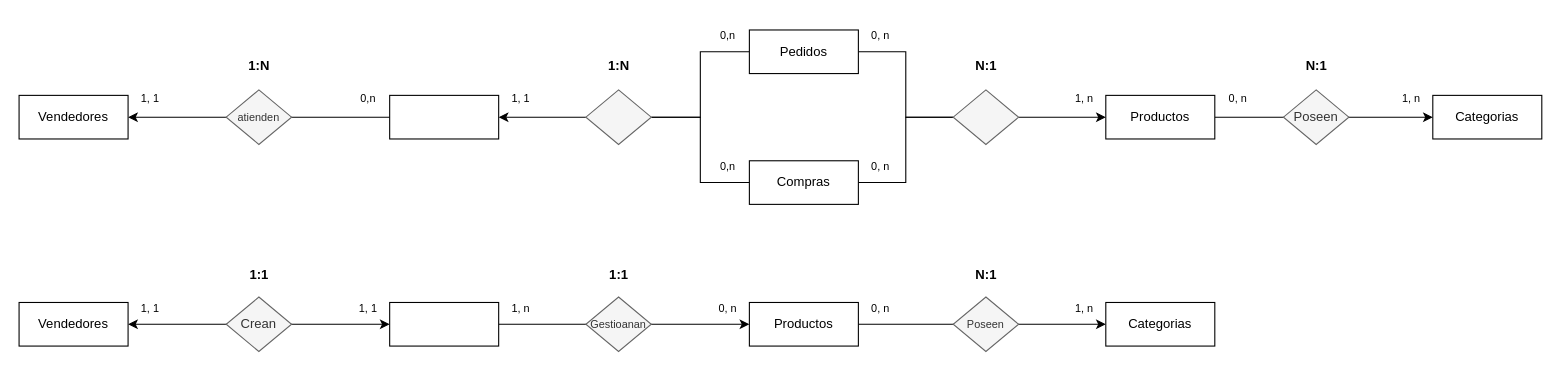
The diagram is 1561 pixels wide and 371 high, and some of its shapes have lost their labels. Each missing label, with the centre of its shape:
"Clientes" belongs at (x=444, y=116).
"de" belongs at (x=985, y=116).
"realizan" belongs at (x=618, y=116).
"Usuarios" belongs at (x=444, y=323).
